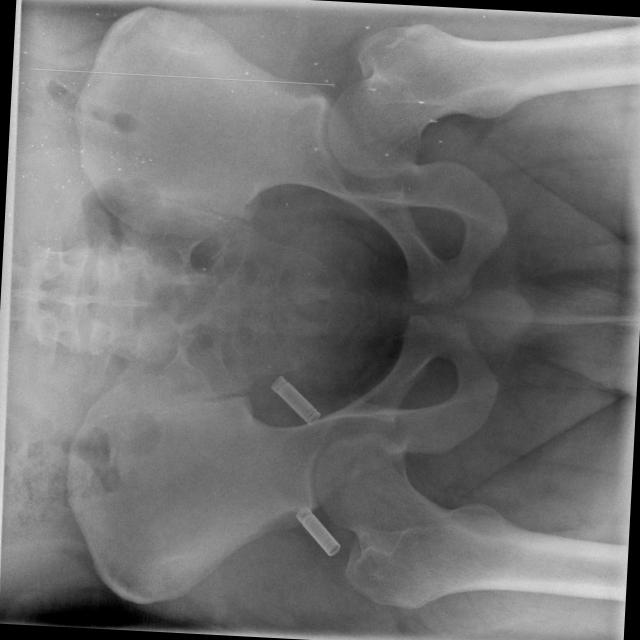normal-left: (329, 23, 640, 178)
normal-right: (314, 432, 628, 608)
